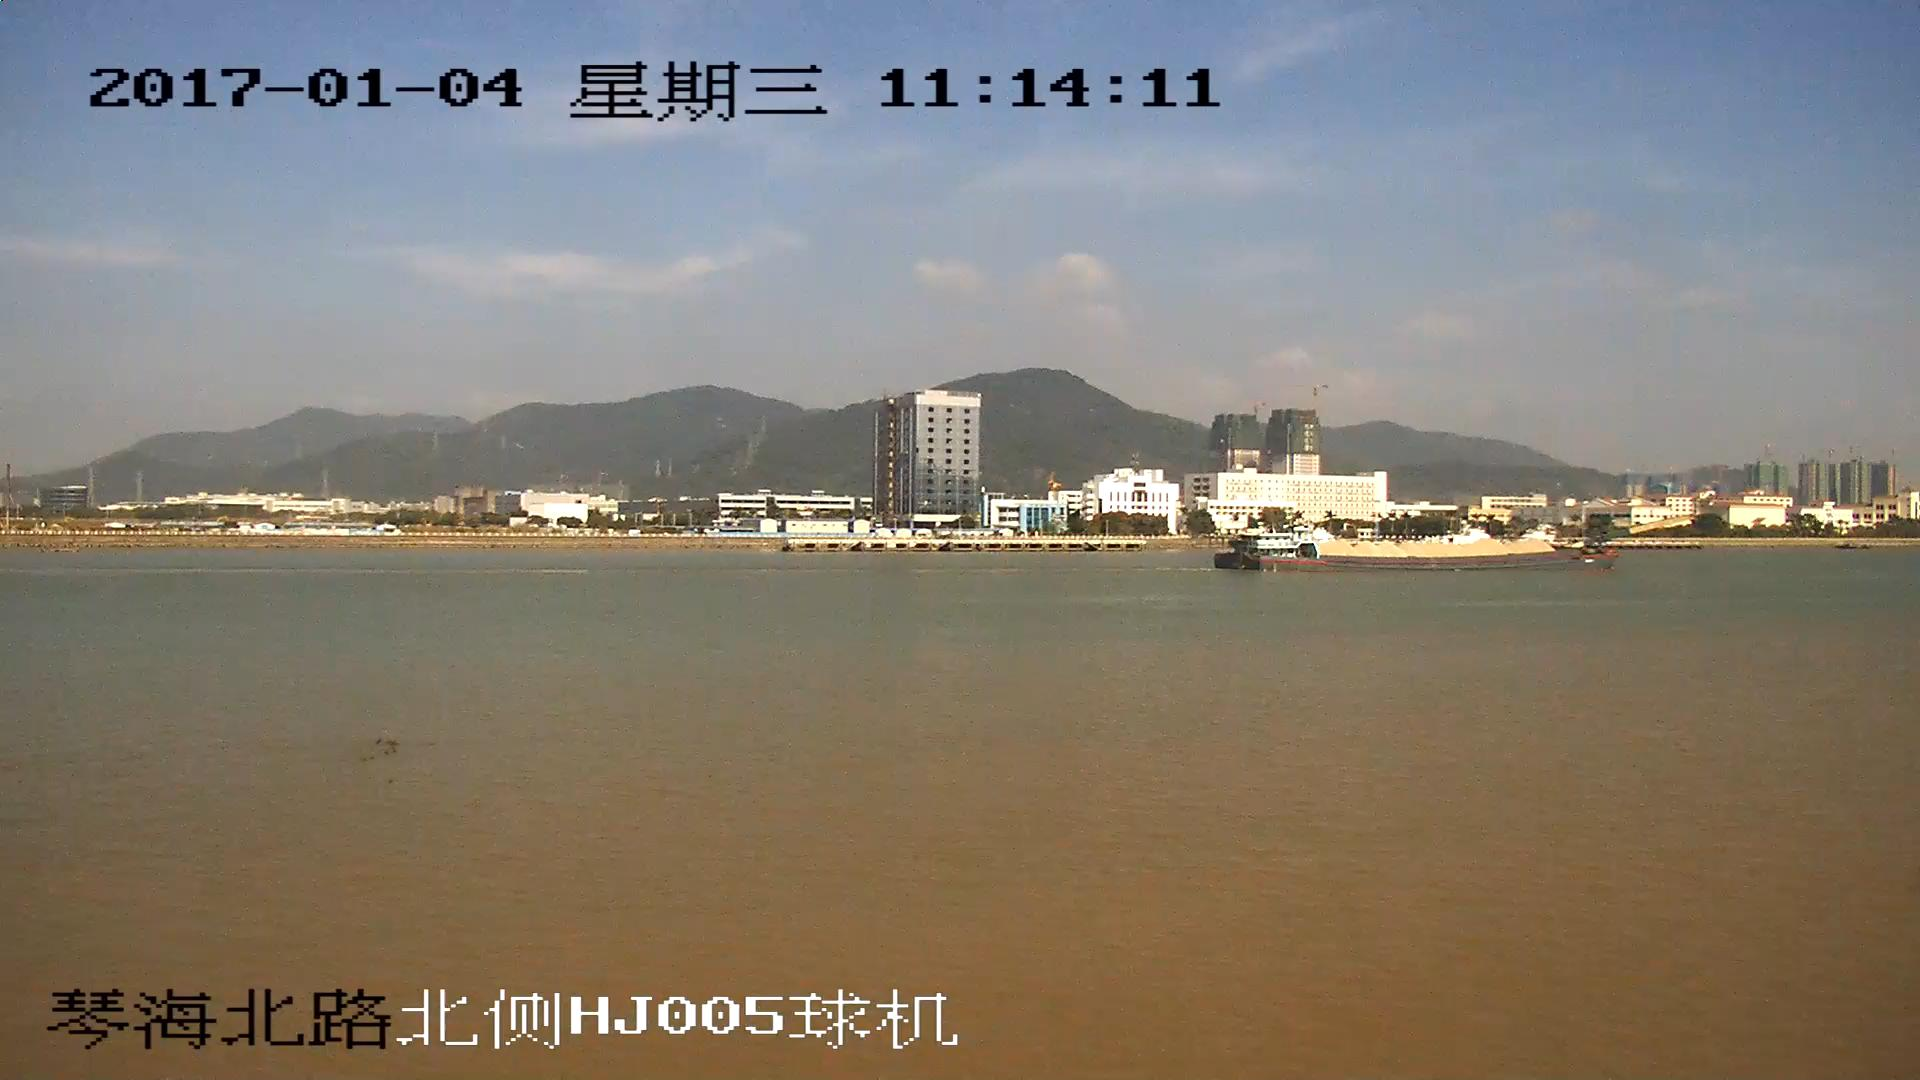ore carrier: (1217, 515, 1692, 572)
